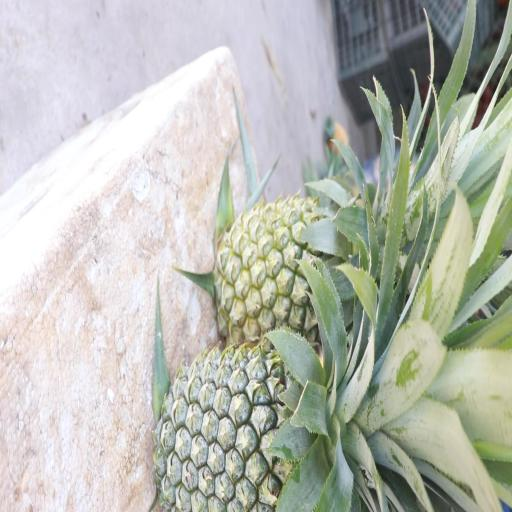Pineapple - v8 v1: (216, 198, 402, 345)
